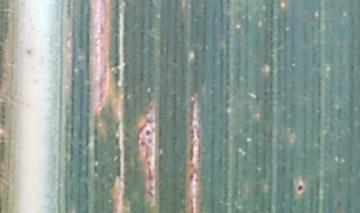tarspot: (294, 182, 306, 195), (142, 129, 152, 136), (139, 140, 147, 144)
